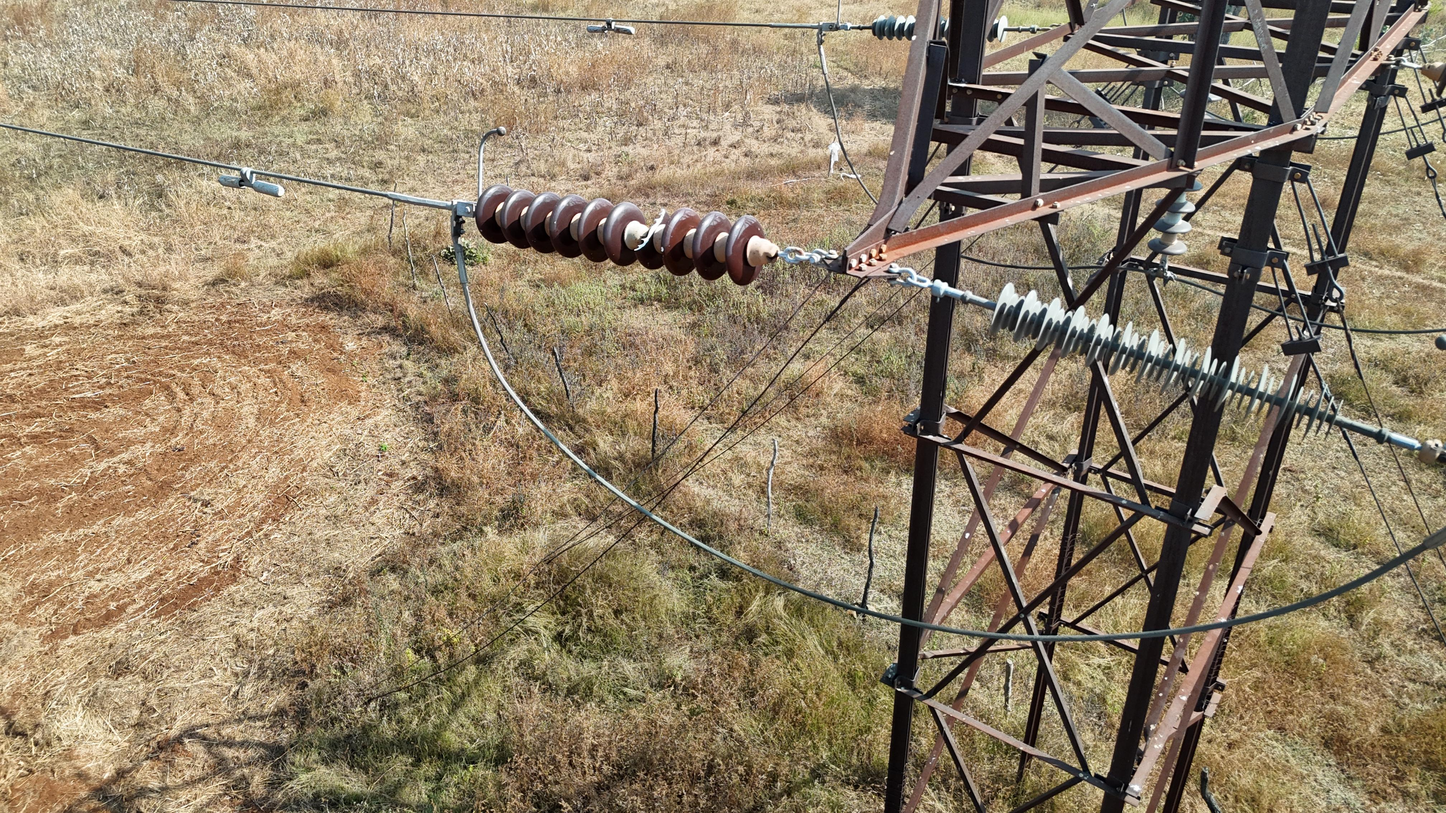broken_insulator: (631, 203, 672, 276)
